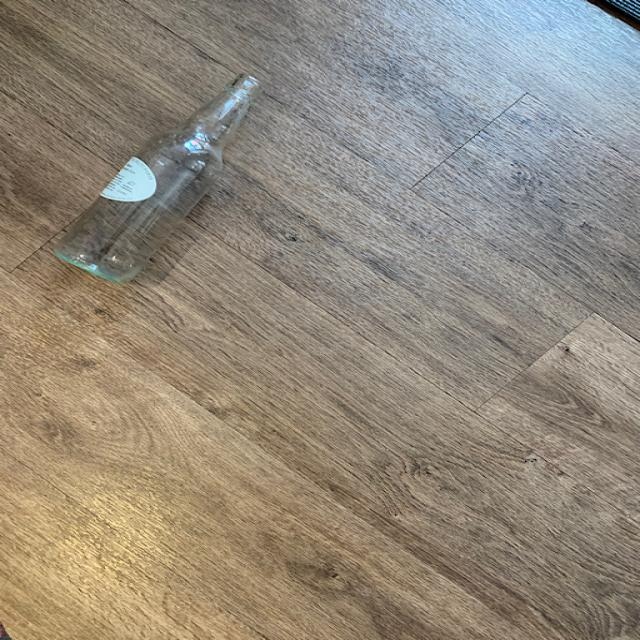litter: (55, 67, 270, 290)
